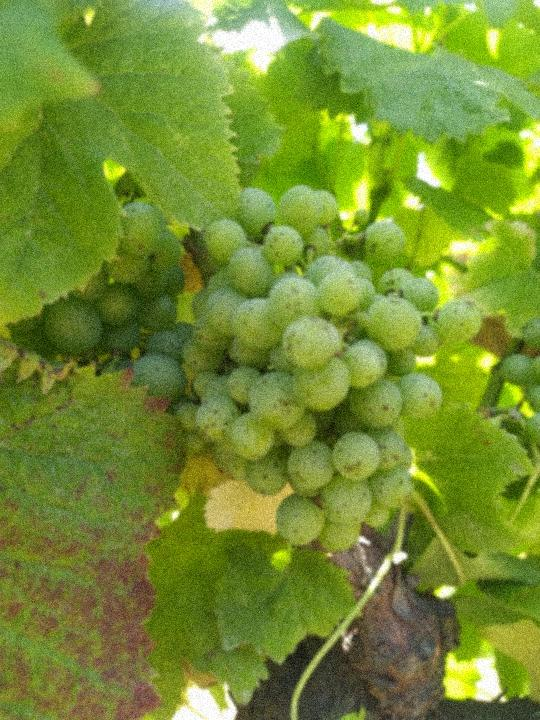grape: (174, 183, 486, 554)
